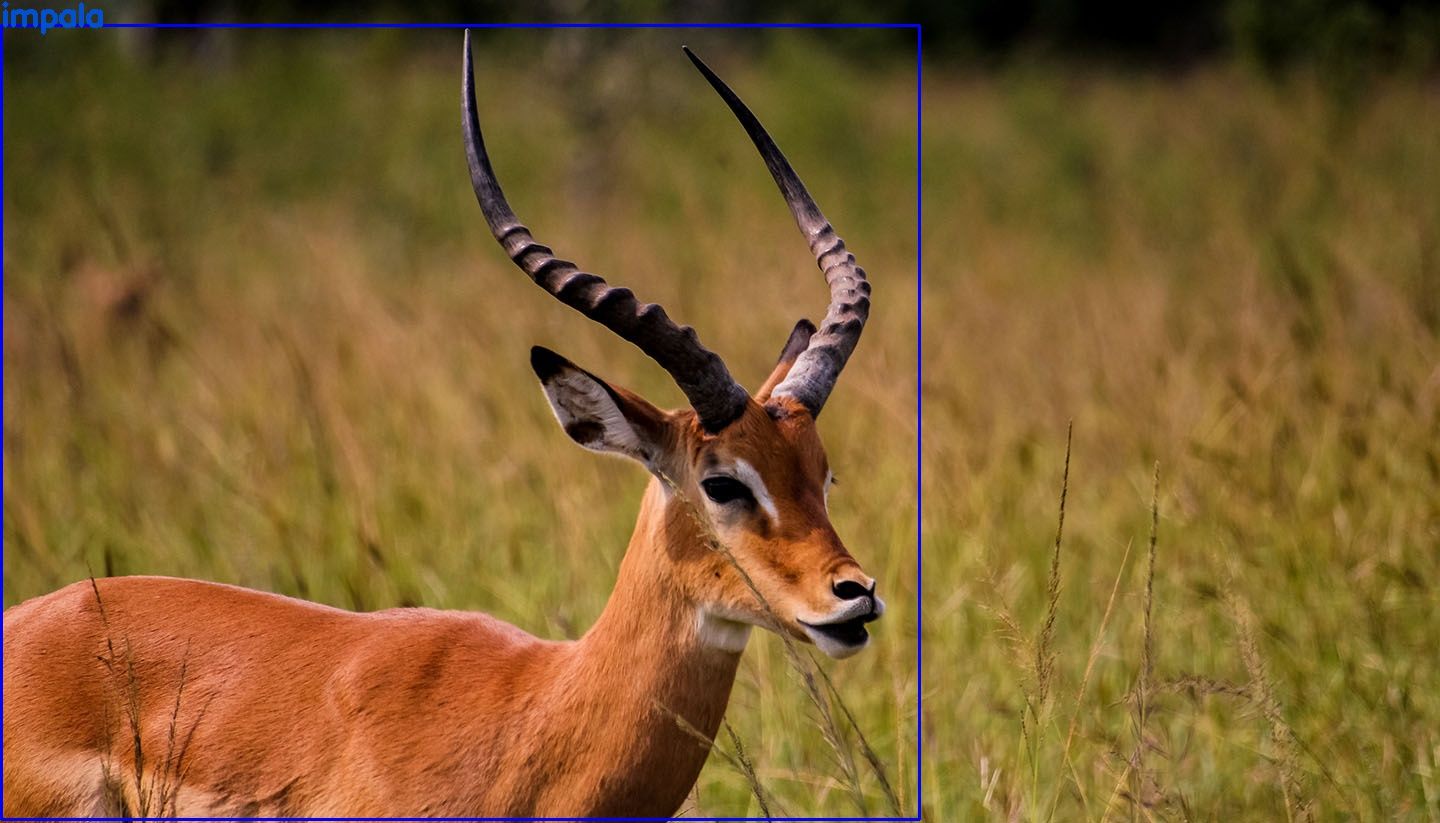impala: (0, 24, 918, 818)
